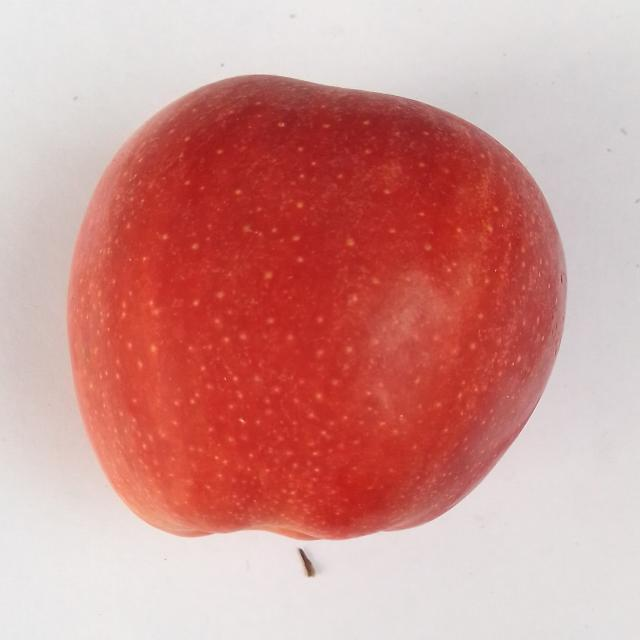Fresh Apple: (64, 65, 568, 545)
